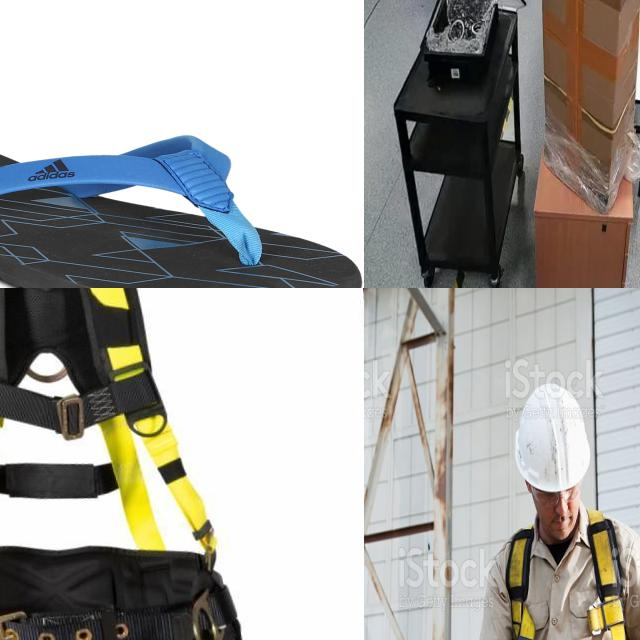Harness: (0, 288, 243, 640), (483, 516, 640, 640)
Sandals: (0, 133, 364, 288)
